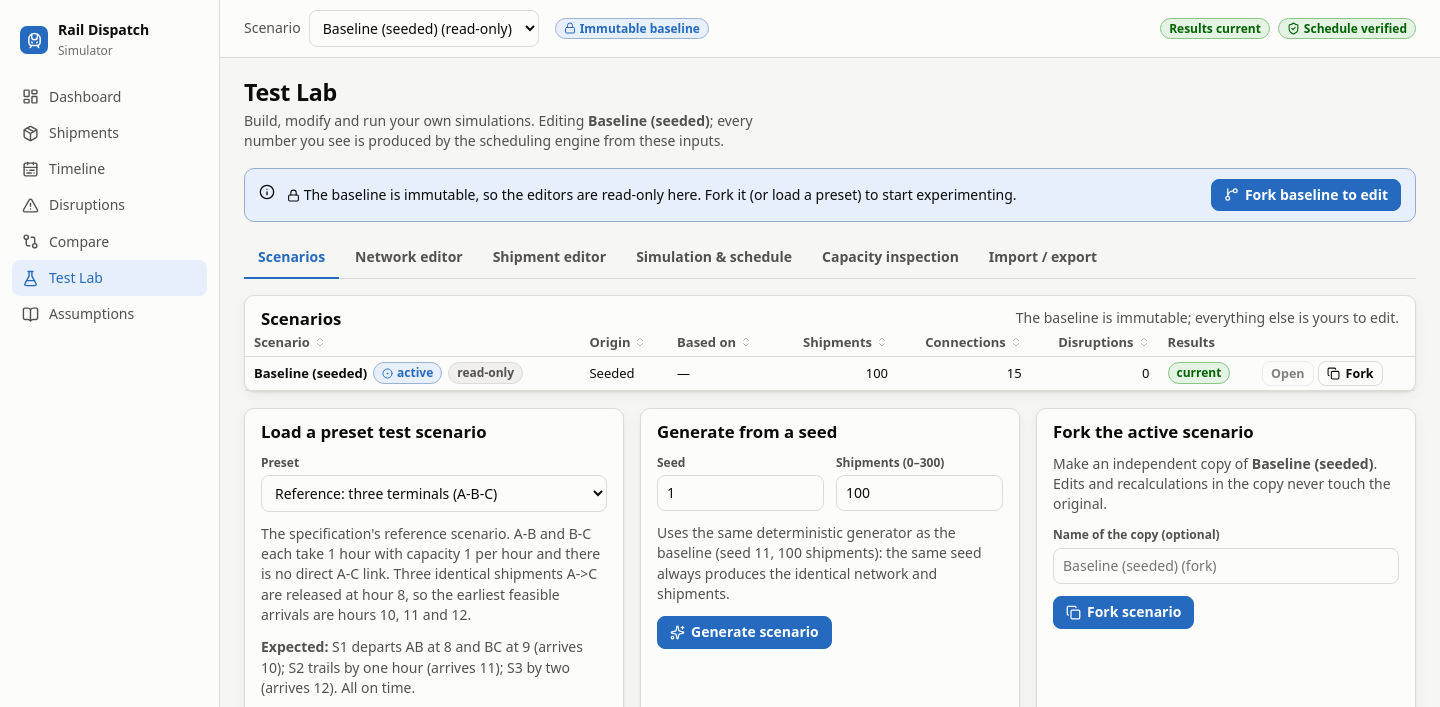
Test: test lab › confirms before deleting a terminal and cascades the dependent records
Click the button "Fork scenario" at x=1124, y=612, box top-left (1053, 596), bottom-right (1194, 629)
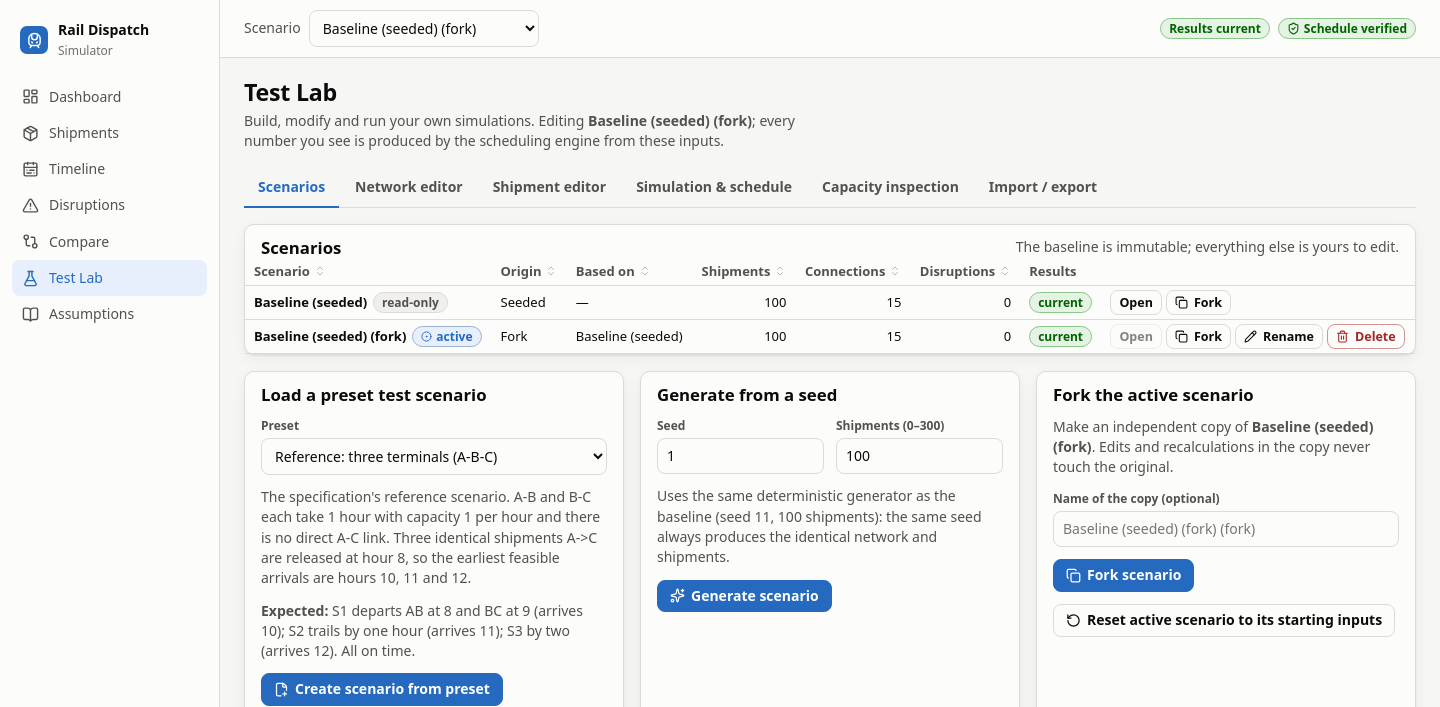
Click the link "Network editor" at x=409, y=186, box top-left (355, 177), bottom-right (463, 196)
(page scrolled)
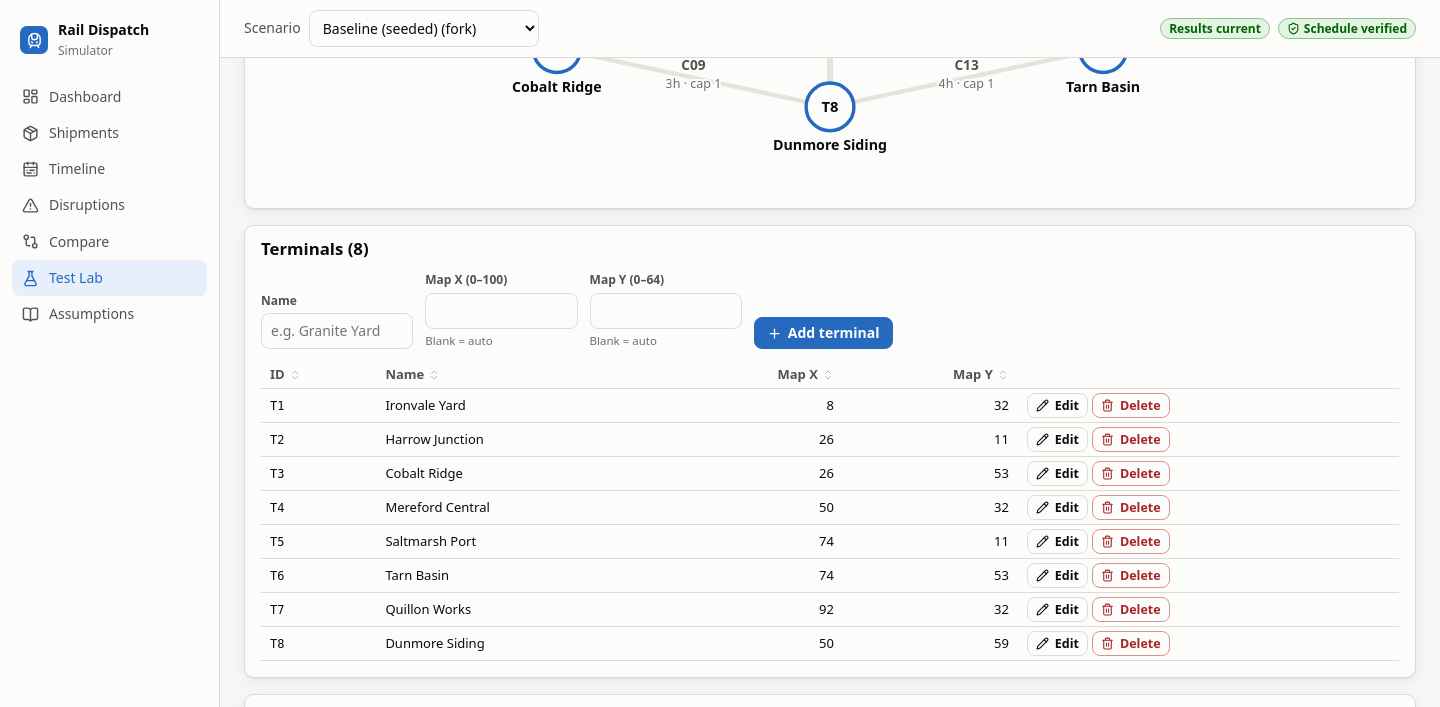
Click the button with aria-label "Delete terminal T1" at x=1131, y=406, box top-left (1092, 393), bottom-right (1170, 418)
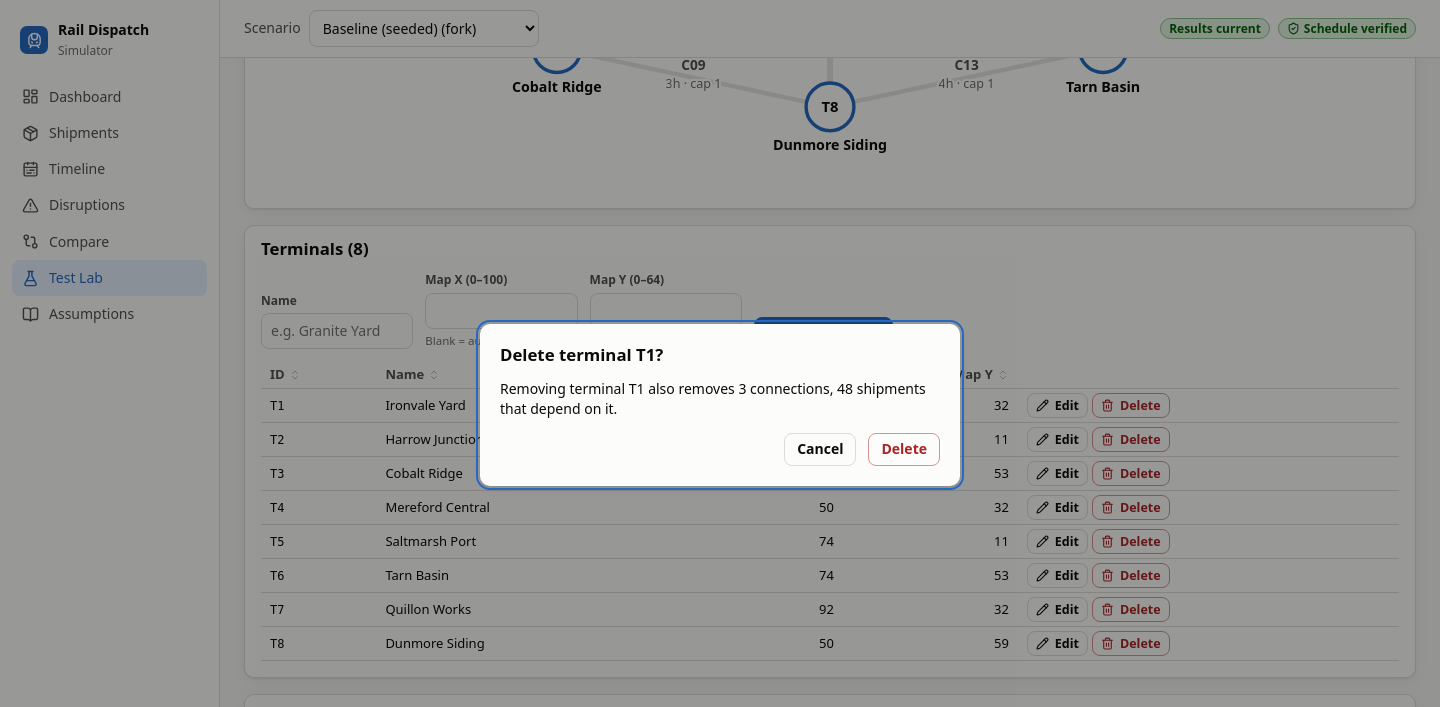
Expected: the dialog shows "also removes 3 connections", top-left (500, 379), bottom-right (926, 418)
Click the button "Delete" at x=904, y=450, box top-left (868, 433), bottom-right (940, 466)
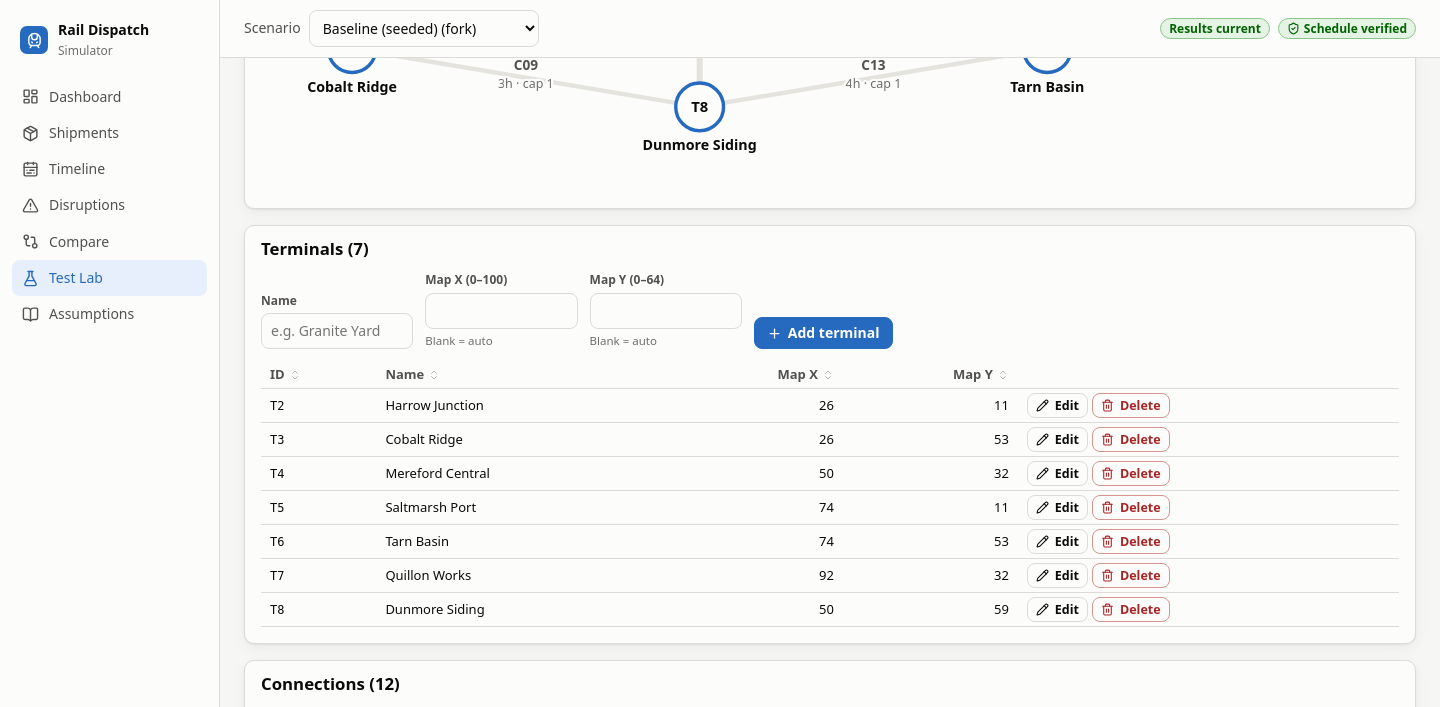
Expected: the text "Schedule verified" is shown, top-left (1278, 18), bottom-right (1416, 39)
Expected: the heading "Terminals (7)" is shown, top-left (261, 238), bottom-right (369, 259)
Expected: the heading "Connections (12)" is shown, top-left (261, 673), bottom-right (400, 694)
